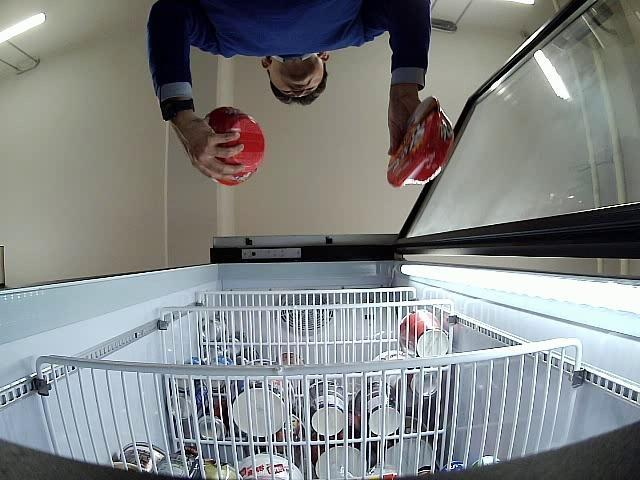10_wangTtukkeong: (388, 96, 454, 188), (206, 108, 264, 185)
